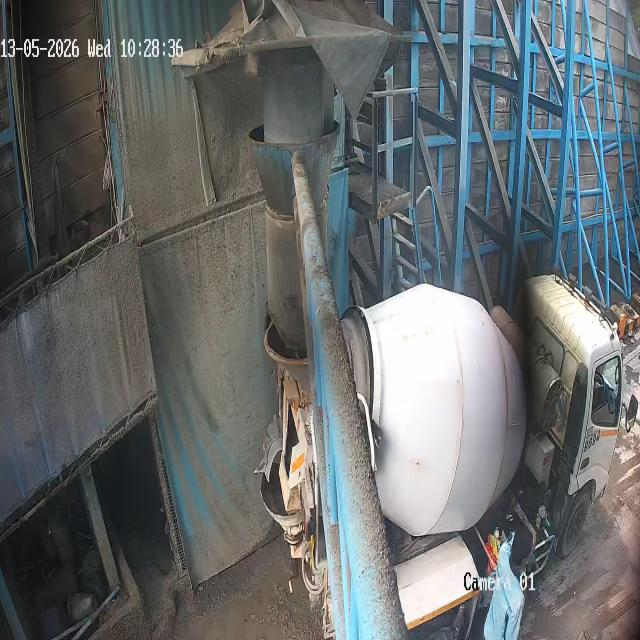cement_mixer_truck: (264, 270, 640, 640)
swing_chute: (251, 125, 342, 345)
